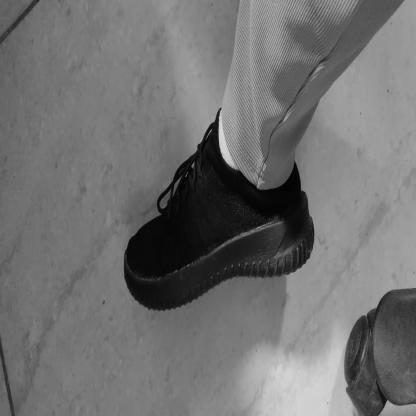ankle: (239, 156, 244, 169)
heel: (302, 197, 306, 212)
pinky: (144, 227, 148, 234)
right_foot: (127, 100, 317, 318)
toe: (140, 264, 142, 271)
